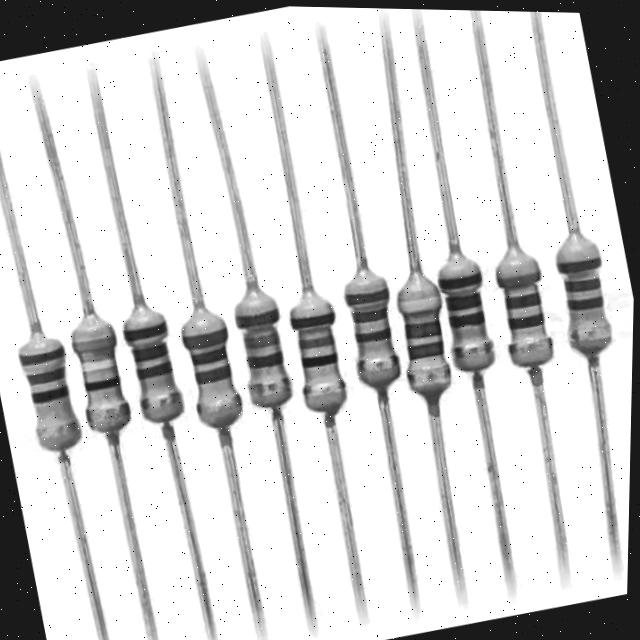Resistor: (466, 177, 588, 453), (319, 201, 436, 486), (374, 191, 481, 481), (101, 247, 217, 504), (214, 226, 324, 491), (48, 256, 160, 516), (416, 184, 523, 456), (272, 213, 377, 488), (166, 241, 267, 504), (0, 263, 106, 509), (537, 171, 637, 416)
